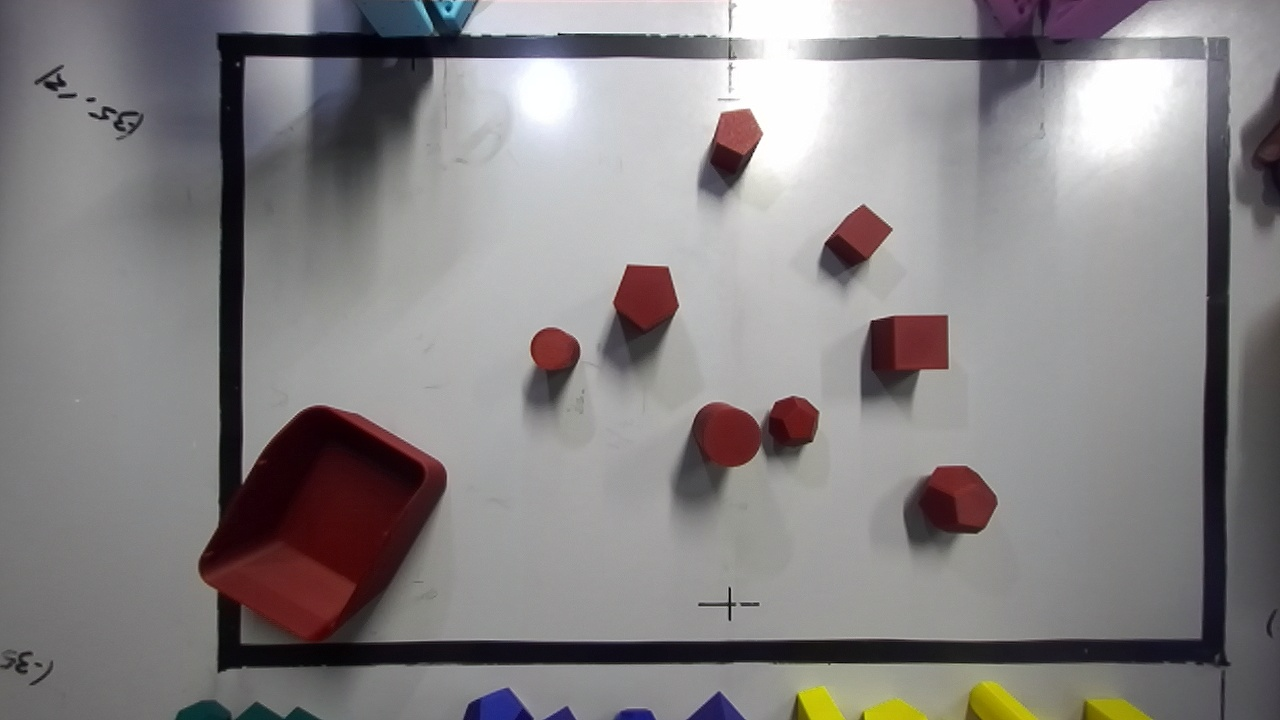bin: (199, 406, 446, 641)
cube: (870, 315, 948, 374), (825, 204, 891, 265)
cylinder: (692, 402, 760, 466), (530, 327, 580, 371)
dodecahedron: (919, 465, 997, 532), (768, 396, 818, 445)
hexagonal: (613, 264, 678, 332), (711, 108, 762, 174)
